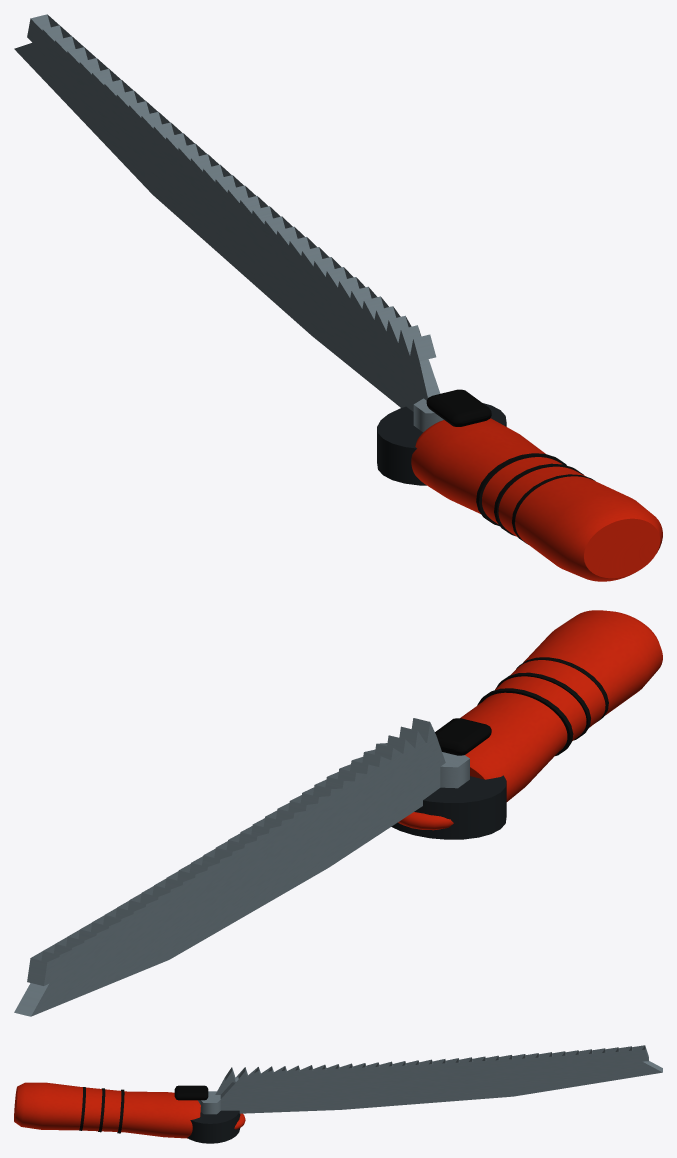
File: PruningSaw.fbx
3 renders of one model, top to bottom at view 1: azimuth 30°, elevation 25°; view 2: azimuth 150°, elevation 25°; view 3: azimuth 270°, elevation 25°, orthographic. The views are drawn at different scales.
Parts seen in each view (by area): view 1: PruningSaw__Body; view 2: PruningSaw__Body; view 3: PruningSaw__Body.
Boxes of the visible parts, bbox=[...] form: PruningSaw__Body: bbox=[14, 14, 662, 581]; PruningSaw__Body: bbox=[14, 610, 662, 1016]; PruningSaw__Body: bbox=[14, 1045, 662, 1143].
Size of the model in its own units: 5.74 by 7.56 by 50.91.
Materials: 1 (1 with a texture image).
